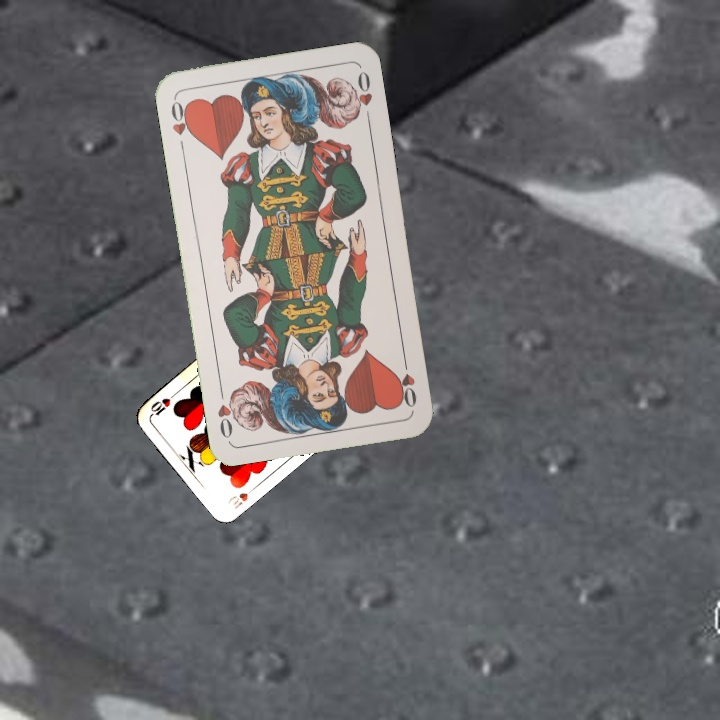H10: (224, 482, 260, 512)
HO: (167, 95, 195, 154), (394, 353, 420, 411)
